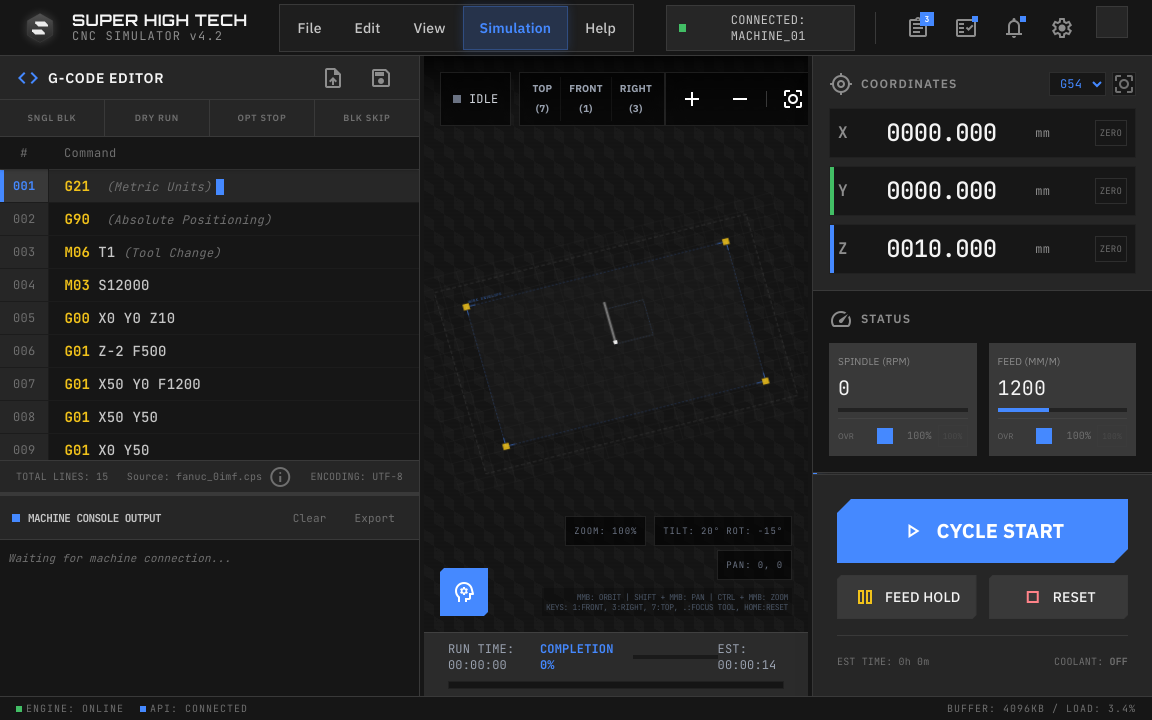
Test case: CYCLE START fake-computing loading sequence › shows the loading modal immediately on click, before the real simulation starts
Click the button "CYCLE START".
click(982, 531)  # box [837,499,1128,563]
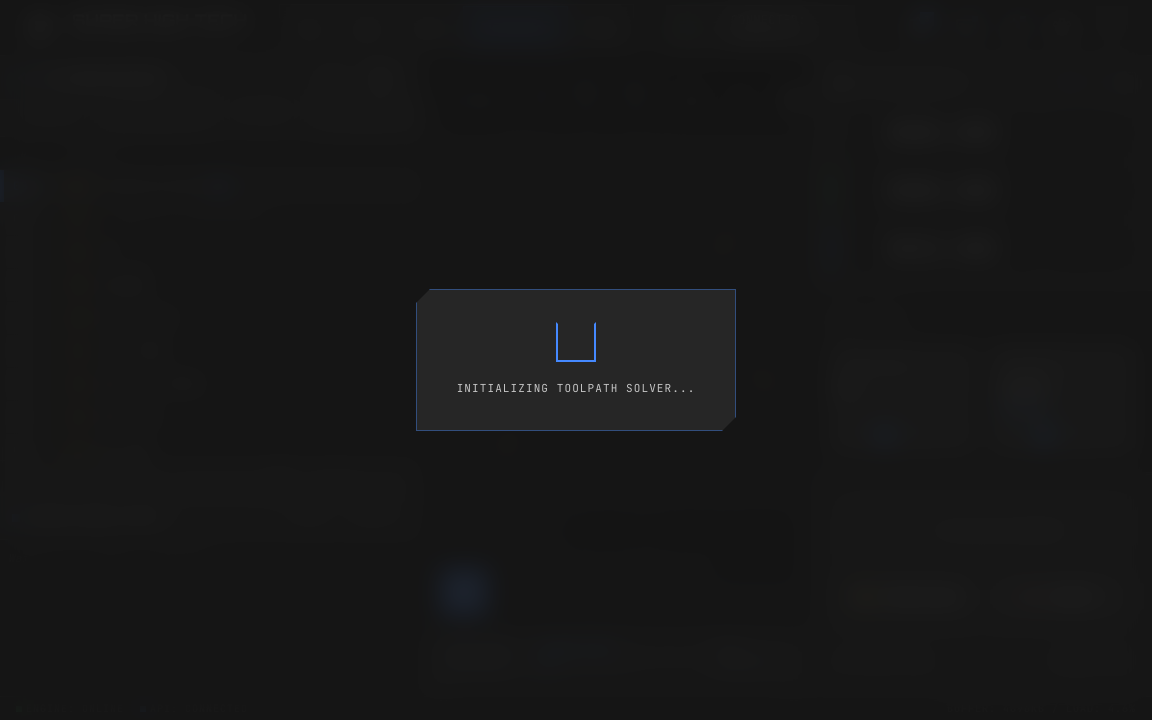
Expected: the text "INITIALIZING TOOLPATH SOLVER..." is shown, [457,378,695,398]
